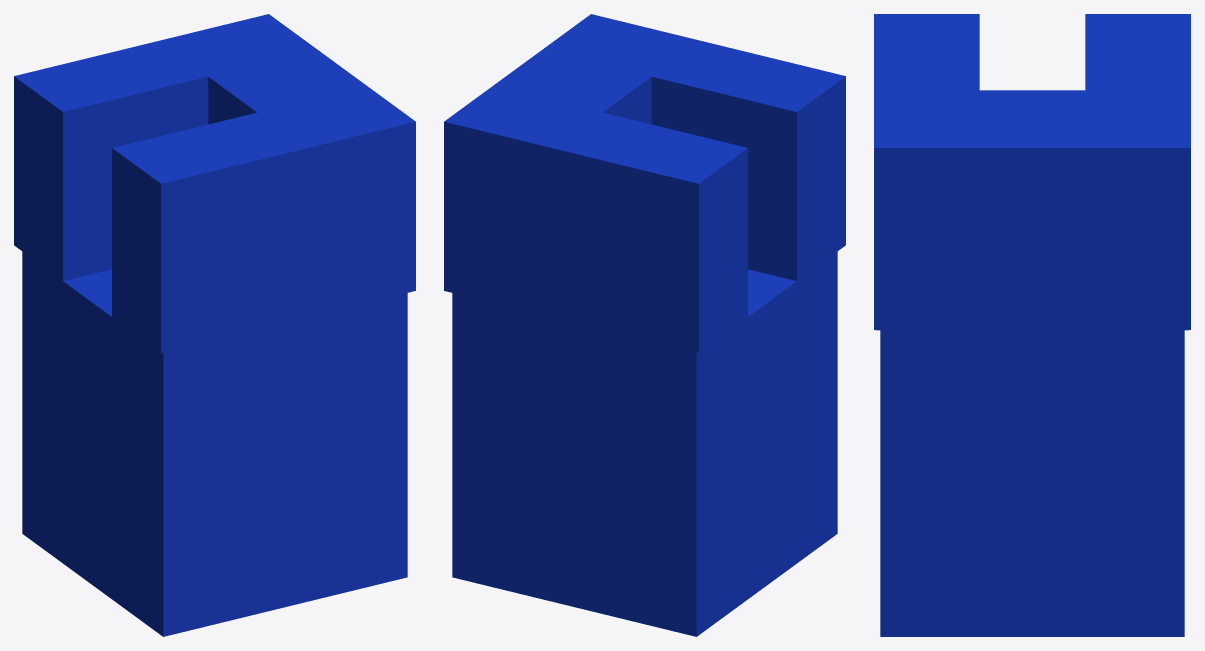
The model's file is BridgeBarrierHousing.obj.
3 views of the same model, side by side, from view 1: azimuth 30°, elevation 25°; view 2: azimuth 150°, elevation 25°; view 3: azimuth 270°, elevation 25° (orthographic). The views are drawn at different scales.
Parts seen in each view (by area): view 1: Barrier_Housing_Cube.002; view 2: Barrier_Housing_Cube.002; view 3: Barrier_Housing_Cube.002.
Boxes of the visible parts, <box> form: Barrier_Housing_Cube.002: <box>14,14,415,636</box>; Barrier_Housing_Cube.002: <box>444,14,845,636</box>; Barrier_Housing_Cube.002: <box>874,14,1190,636</box>.
Size of the model in its own units: 1.52 by 2.6 by 1.52.
